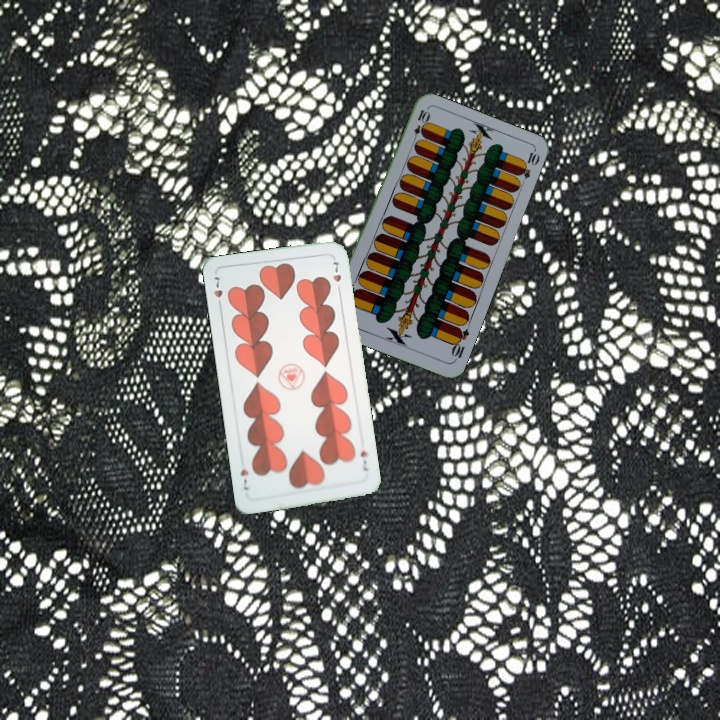E10: (447, 324, 472, 364), (409, 106, 431, 146)
H7: (209, 273, 225, 311), (356, 446, 370, 473)
